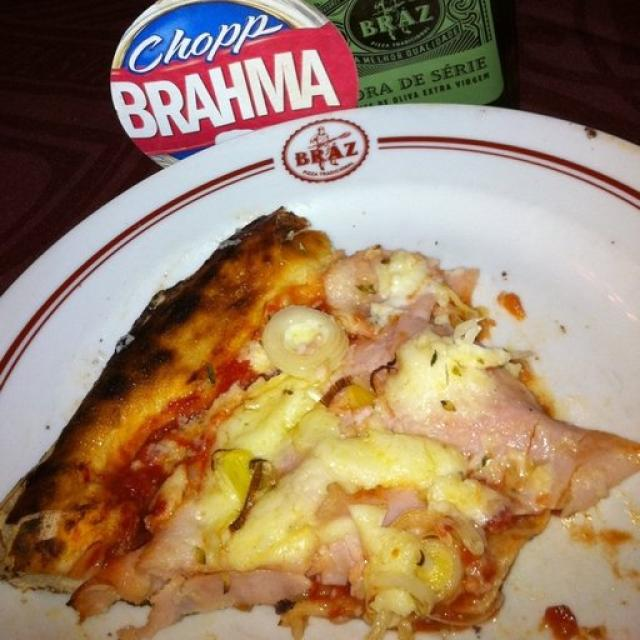Onions: (363, 493, 497, 612), (160, 566, 316, 612), (273, 310, 354, 382), (216, 450, 268, 518), (324, 529, 369, 592), (386, 487, 431, 528), (271, 441, 300, 480)
Pizza: (0, 209, 640, 628)
